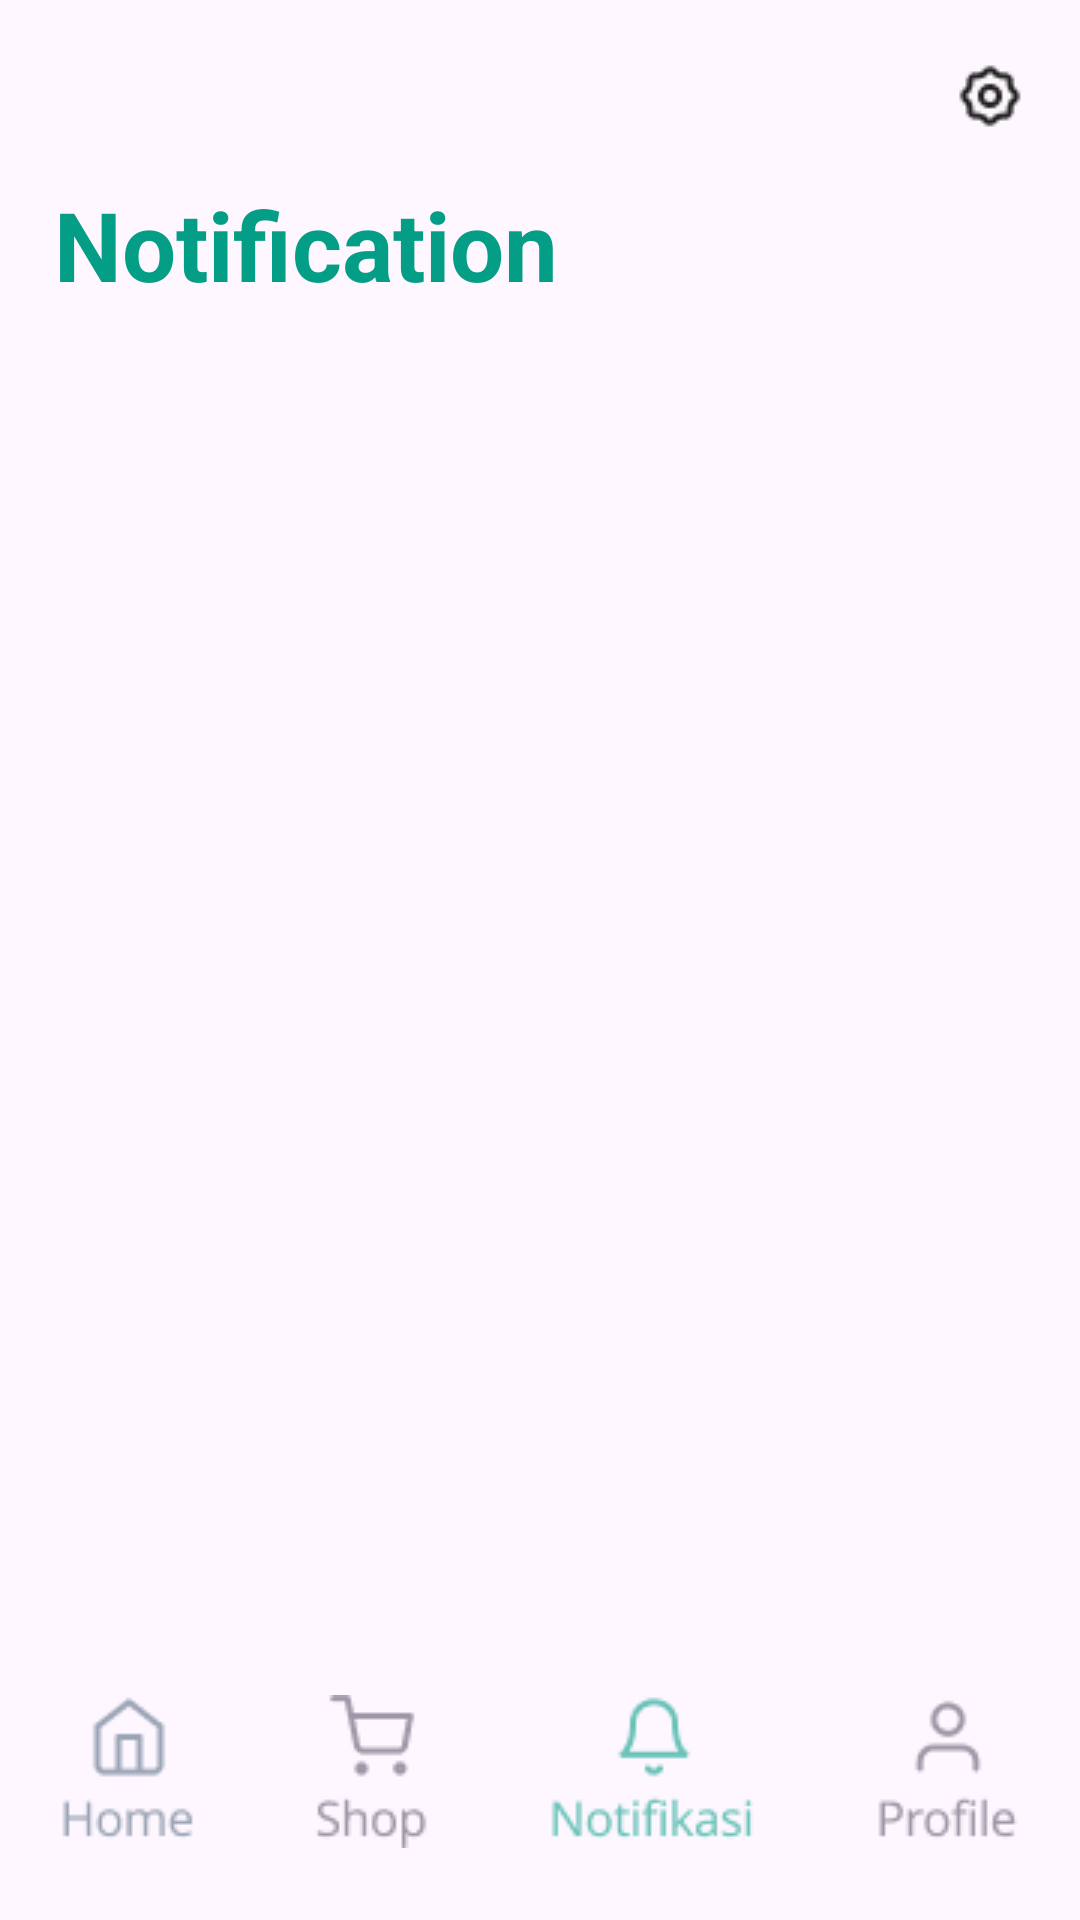

Named icons in this screenshot (1080w x 1920h) and their bounding boxes, (x1, y1, x2, y2):
settings: (959, 65, 1021, 127)
